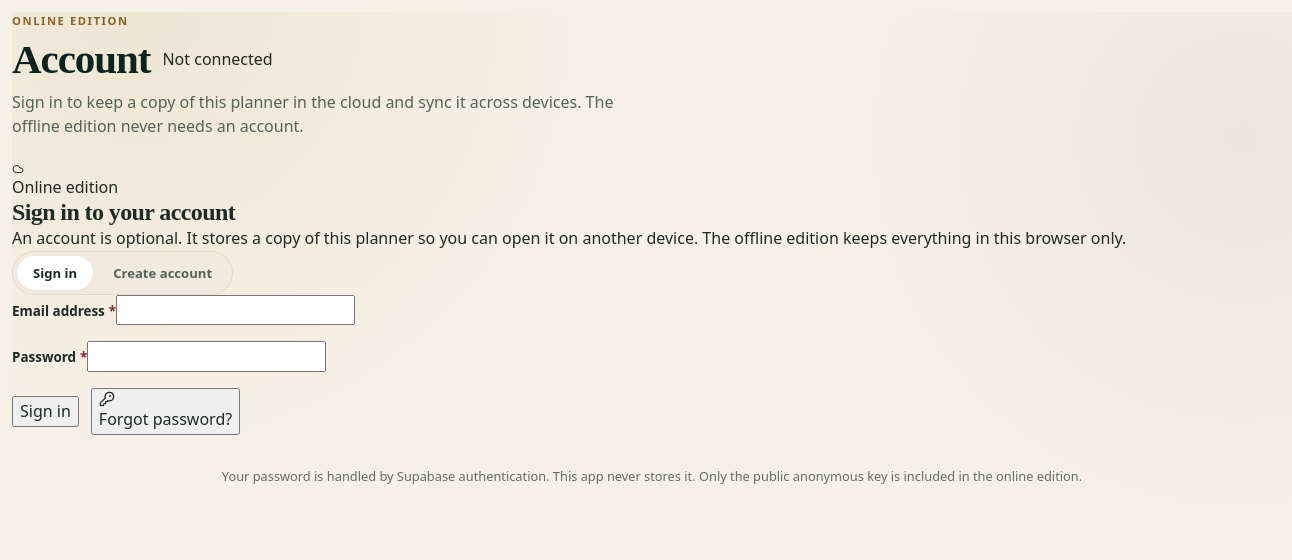
Test: account page › shows a clear message when sign-in fails
Type "alex@example.com" into the field labelled "Email address *" at (236, 310), box [116,295,355,326]
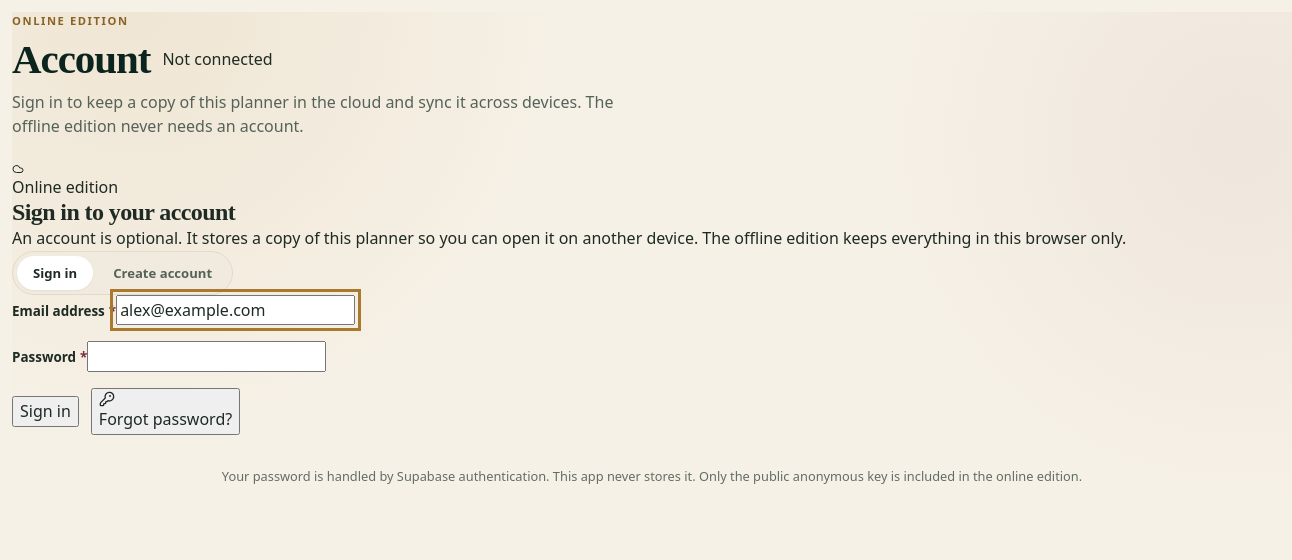
Type "correct-horse" into the password field labelled "Password *" at (207, 357), box [87,342,326,372]
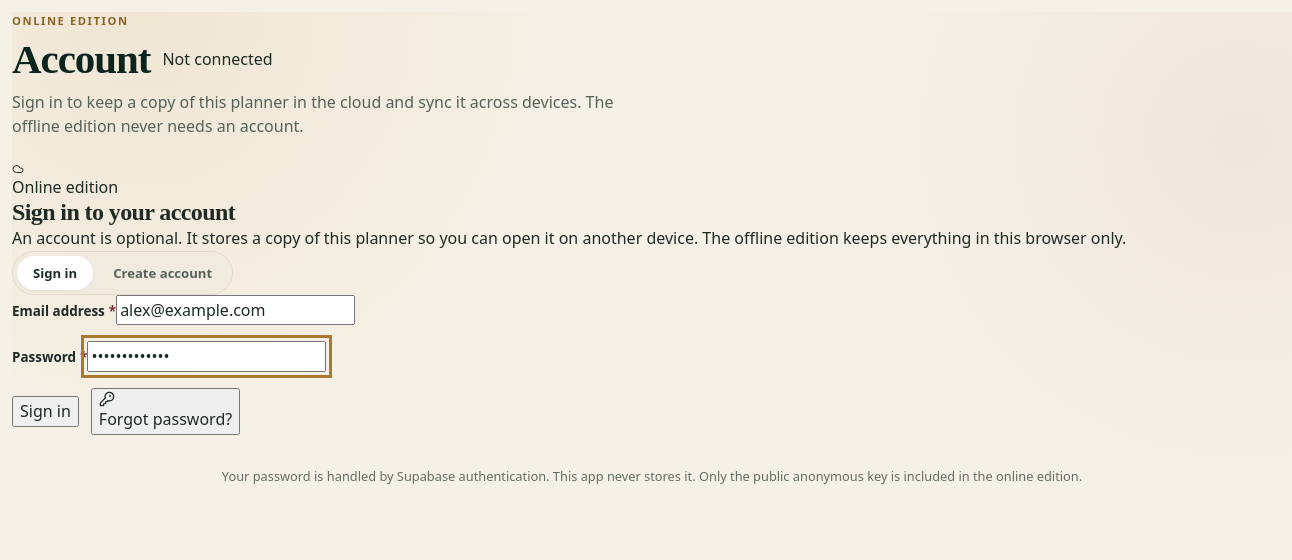
Click the button "Sign in" below "Email address" at (45, 412), box [12,396,79,427]
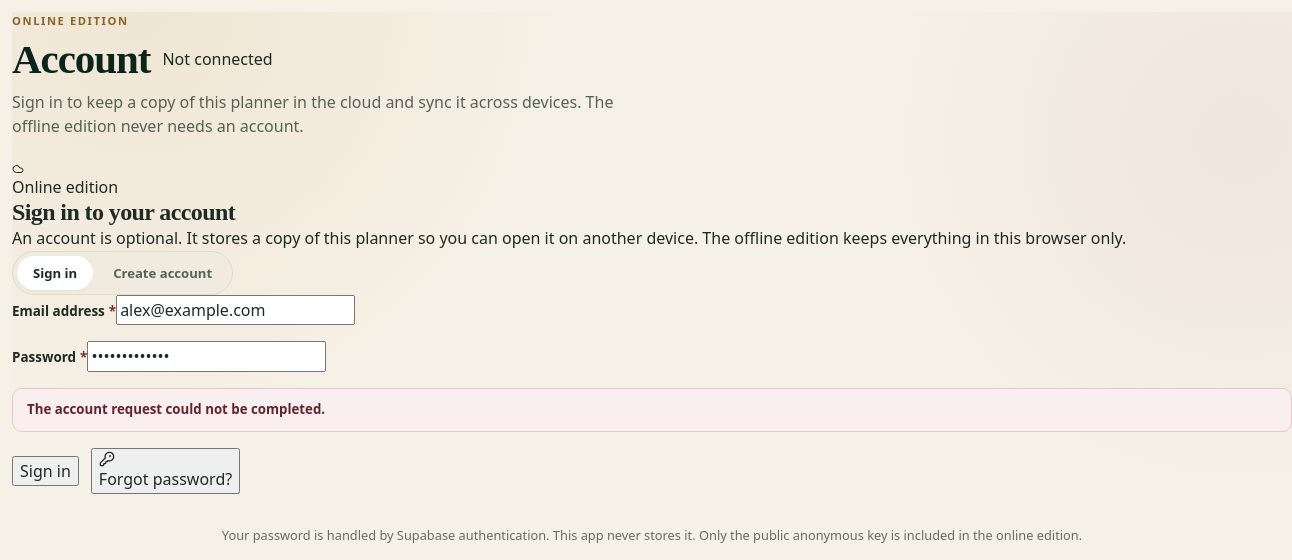
Now the message reads "The account request could not be completed.", box [27,400,325,418]
